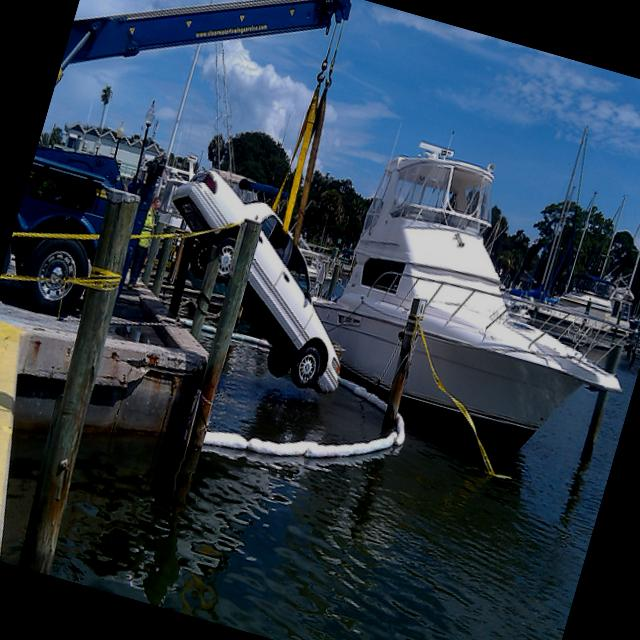Vehicle: (142, 173, 378, 394), (0, 127, 166, 333)
